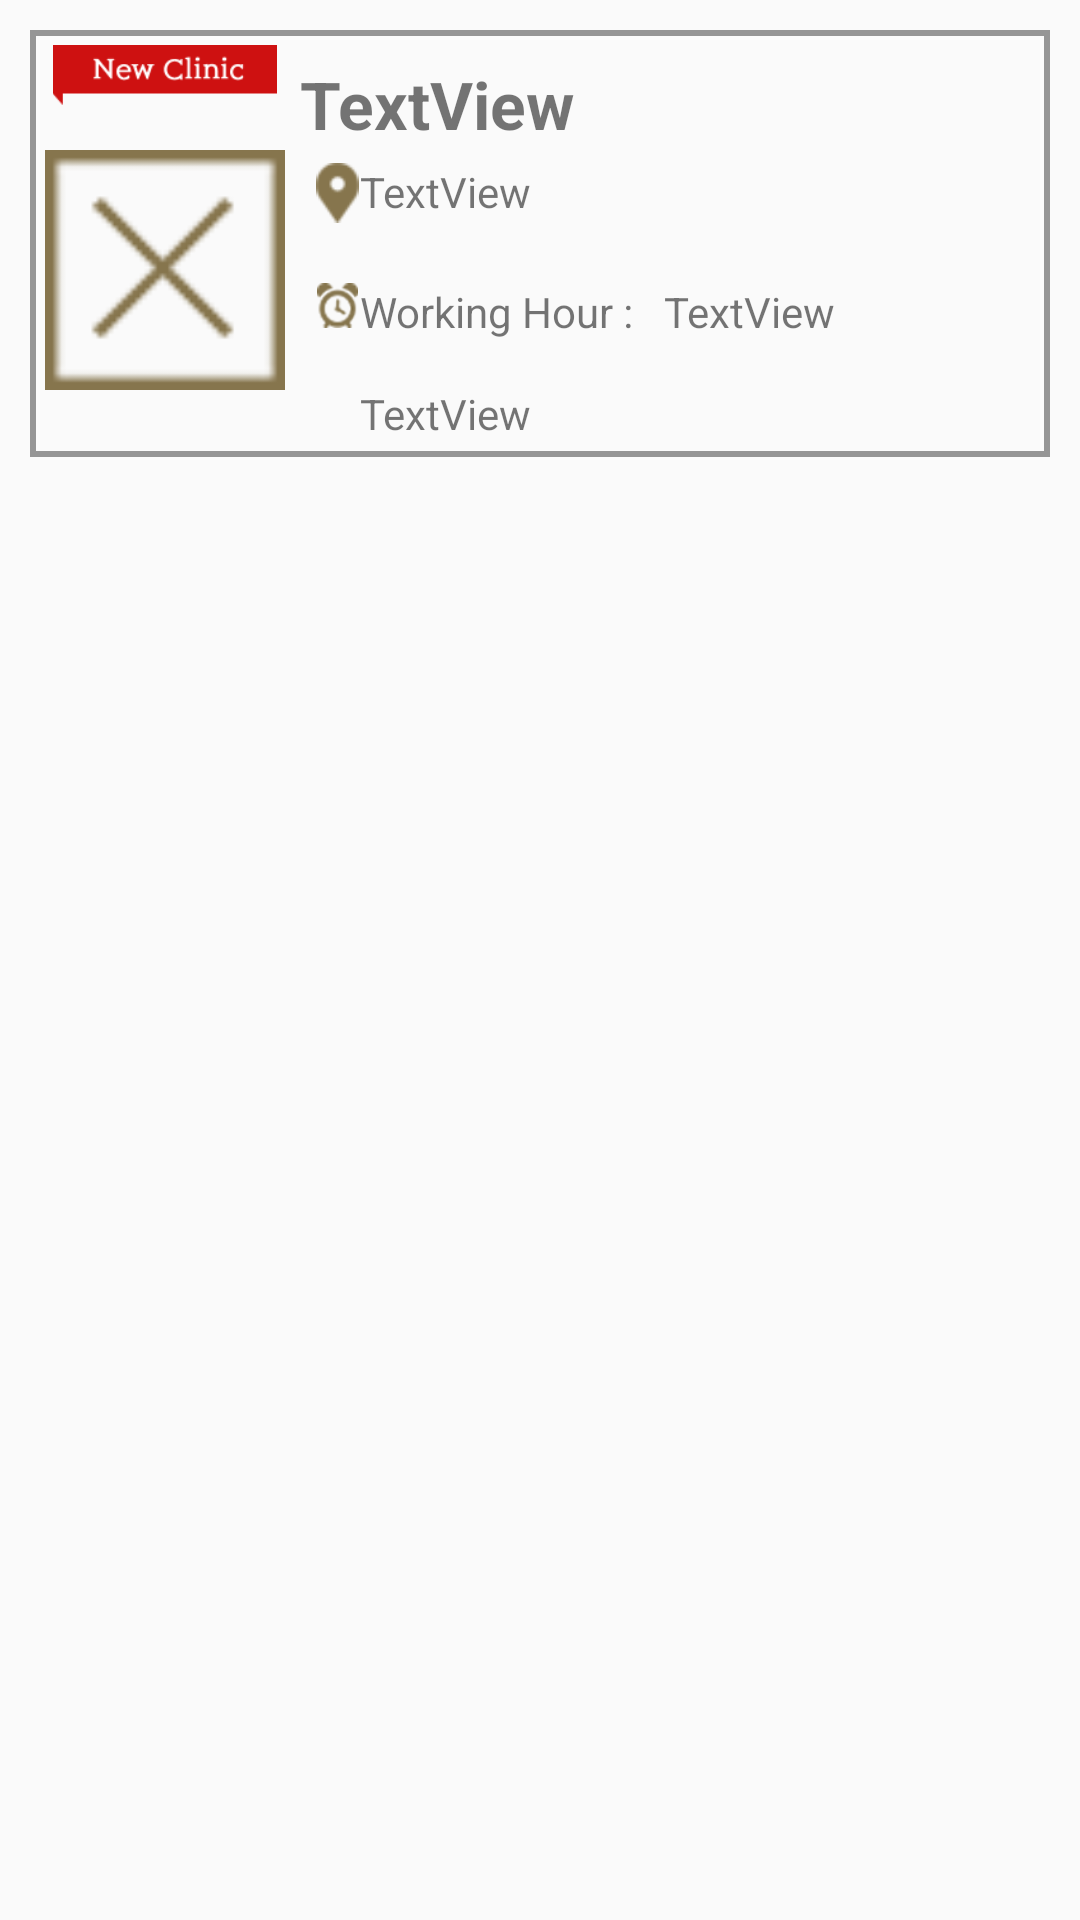

Icons on this 1080×1920 Android screen, each with the point to tap as (x=x, y=y):
address: (x=337, y=193)
close: (x=165, y=270)
time: (x=337, y=305)
